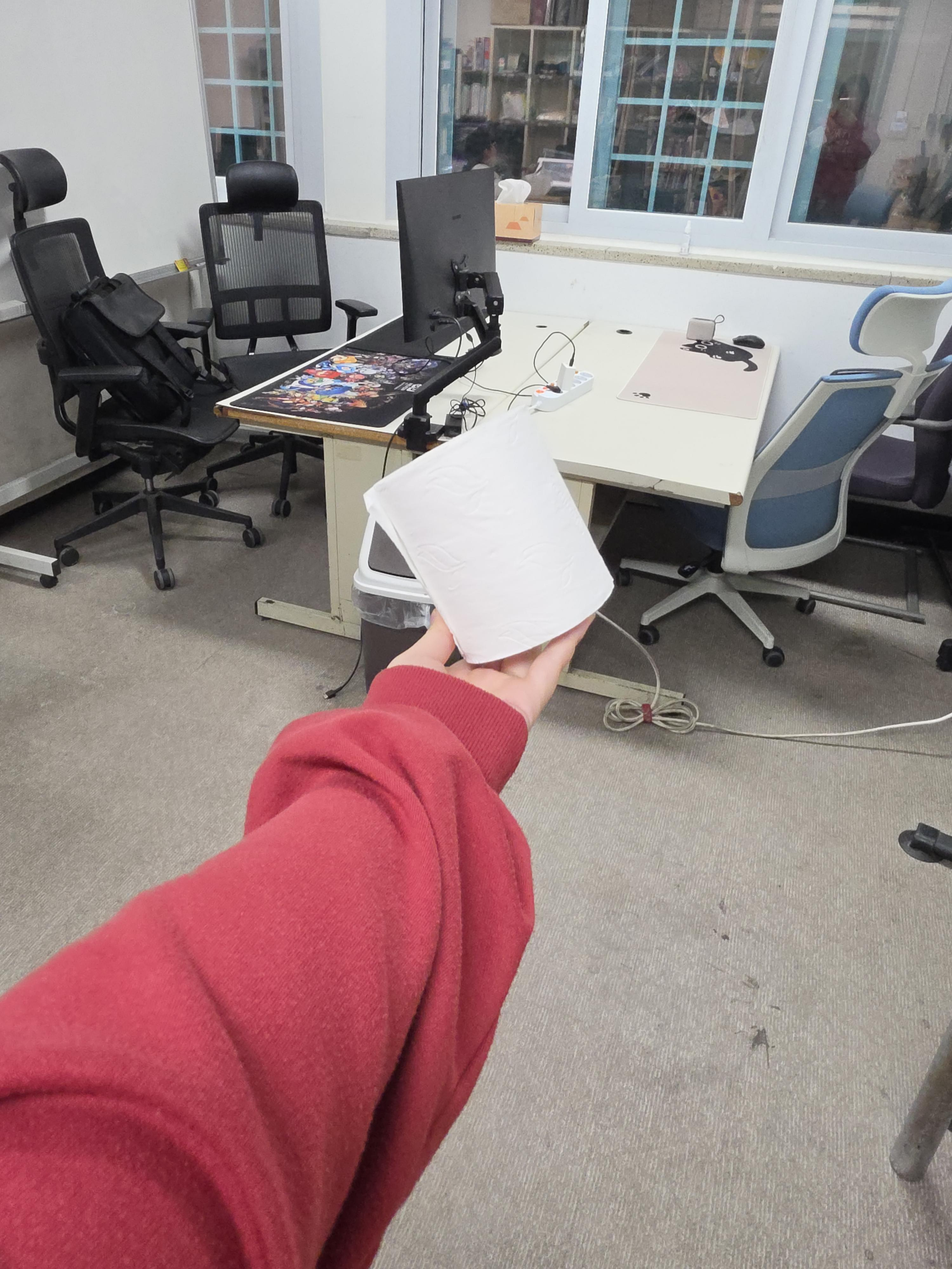tissue: (363, 403, 615, 665), (495, 178, 543, 242)
